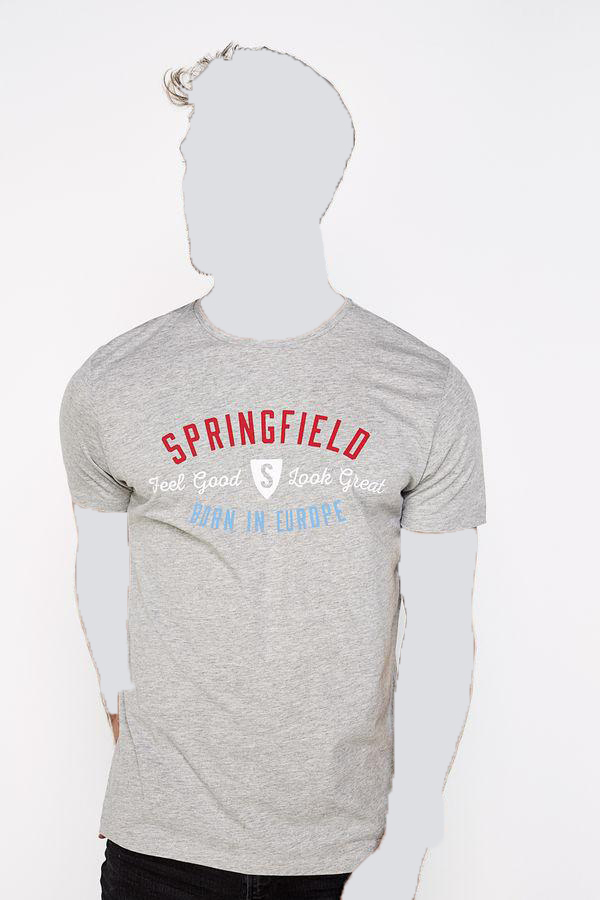teeshirt: (34, 293, 479, 871)
